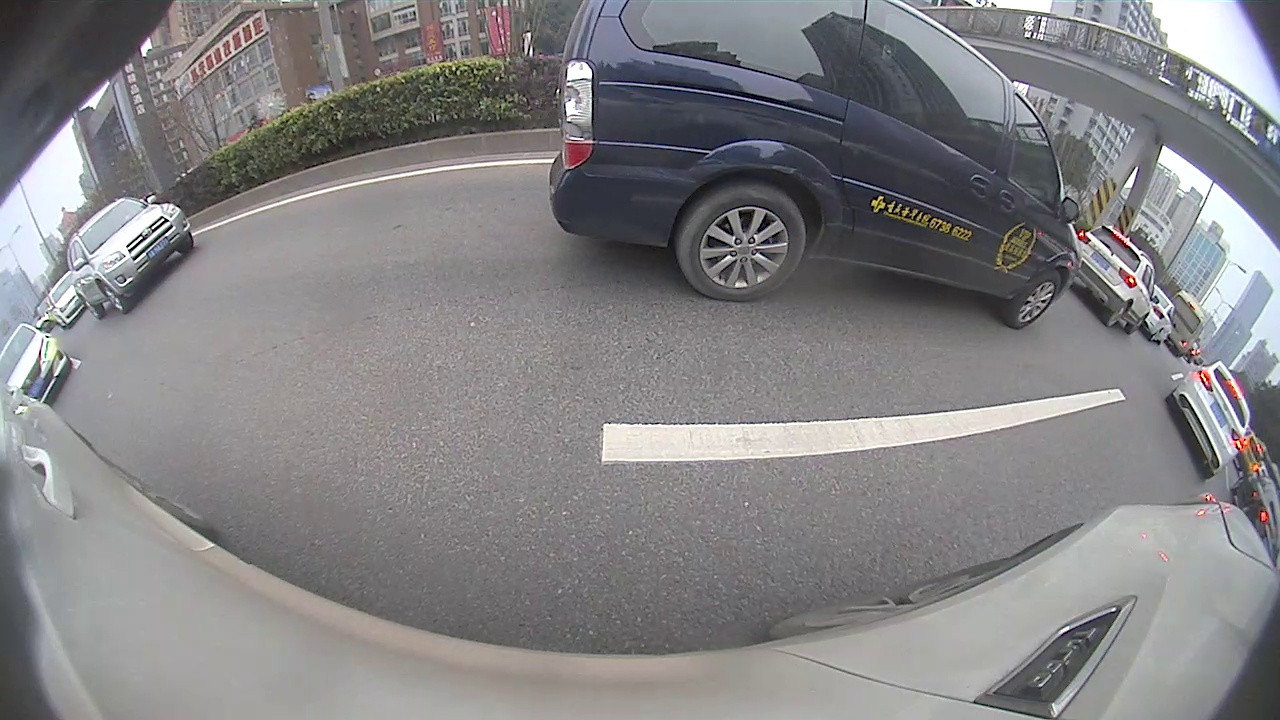car: (547, 3, 1083, 332), (67, 193, 196, 320), (1162, 361, 1254, 481), (1066, 228, 1161, 337)
front: (1007, 271, 1062, 329), (95, 280, 130, 316)
rear: (680, 184, 809, 302), (1101, 301, 1133, 329)
